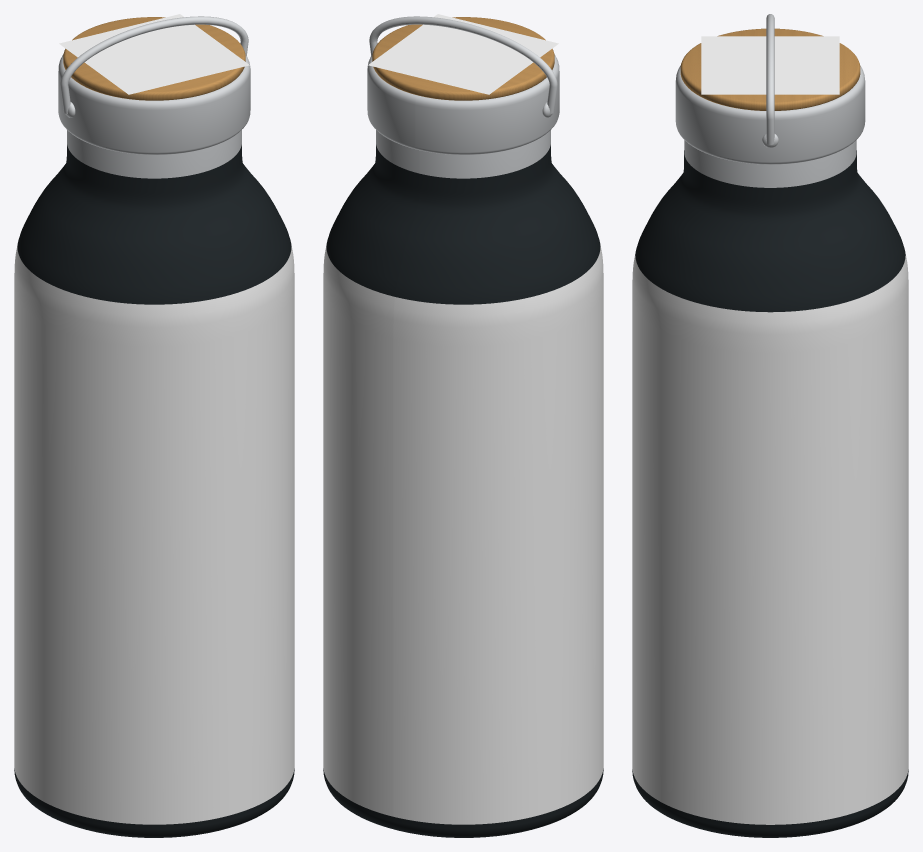
Rendered from bottle-hq-v01.glb.
3 views of the same model, side by side, from view 1: azimuth 30°, elevation 25°; view 2: azimuth 150°, elevation 25°; view 3: azimuth 270°, elevation 25° (orthographic).
Parts seen in each view (by area): view 1: BottleBodyDecoration, VacuumBottleBody, LidSteelCollar, BambooTopDecoration, SteelNeckAndInnerWall, LidBambooTop, SteelCarryHandle; view 2: BottleBodyDecoration, VacuumBottleBody, LidSteelCollar, BambooTopDecoration, SteelNeckAndInnerWall, LidBambooTop, SteelCarryHandle; view 3: BottleBodyDecoration, VacuumBottleBody, LidSteelCollar, BambooTopDecoration, LidBambooTop, SteelNeckAndInnerWall, SteelCarryHandle.
Part boxes in pixels (left/top/right/bottom): BottleBodyDecoration: left=14, top=241, right=294, bottom=824; VacuumBottleBody: left=14, top=145, right=294, bottom=837; LidSteelCollar: left=58, top=54, right=250, bottom=154; BambooTopDecoration: left=59, top=14, right=249, bottom=94; SteelNeckAndInnerWall: left=67, top=130, right=241, bottom=178; LidBambooTop: left=63, top=17, right=245, bottom=100; SteelCarryHandle: left=60, top=16, right=248, bottom=113; BottleBodyDecoration: left=323, top=241, right=603, bottom=824; VacuumBottleBody: left=323, top=145, right=603, bottom=837; LidSteelCollar: left=367, top=54, right=559, bottom=154; BambooTopDecoration: left=368, top=14, right=558, bottom=94; SteelNeckAndInnerWall: left=376, top=130, right=550, bottom=178; LidBambooTop: left=372, top=17, right=554, bottom=100; SteelCarryHandle: left=369, top=16, right=557, bottom=113; BottleBodyDecoration: left=632, top=248, right=908, bottom=824; VacuumBottleBody: left=632, top=150, right=908, bottom=837; LidSteelCollar: left=675, top=65, right=865, bottom=164; BambooTopDecoration: left=701, top=36, right=839, bottom=94; LidBambooTop: left=680, top=28, right=860, bottom=110; SteelNeckAndInnerWall: left=684, top=140, right=856, bottom=187; SteelCarryHandle: left=766, top=14, right=774, bottom=144.
Bounding box in the file's own units: 0.0701 × 0.2097 × 0.0701.
7 materials, 1 textured.
